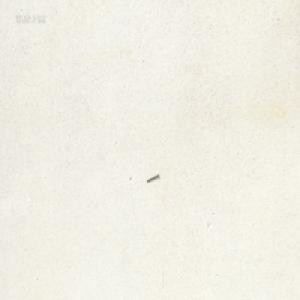Bolt: (146, 172, 159, 182)
